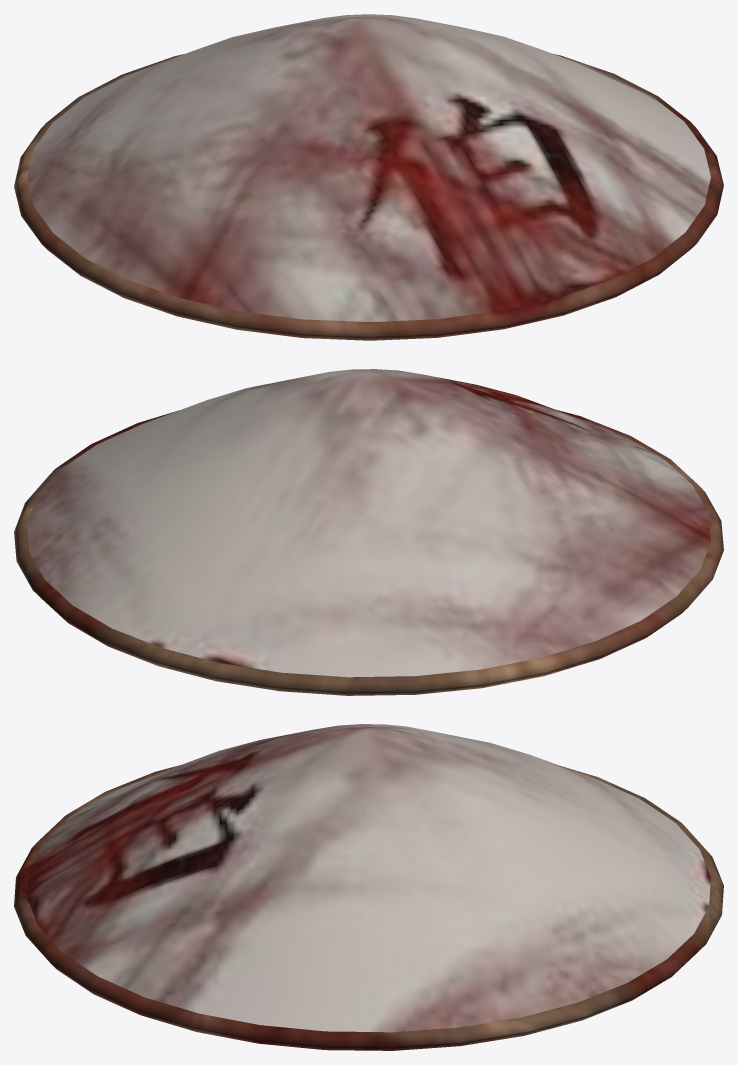
File: chapeau_paille.glb
3 views of the same model, one above another, from view 1: azimuth 30°, elevation 25°; view 2: azimuth 150°, elevation 25°; view 3: azimuth 270°, elevation 25° (orthographic).
Visible parts, largest first — view 1: RattanHat_LOD0; view 2: RattanHat_LOD0; view 3: RattanHat_LOD0.
Part boxes in pixels (box(x1,y1,x2,y2)): RattanHat_LOD0: box(14, 14, 723, 340); RattanHat_LOD0: box(14, 369, 723, 695); RattanHat_LOD0: box(14, 724, 723, 1050).
Bounding box in the file's own units: 0.7812 × 0.212 × 0.7812.
Materials: 1 (1 with a texture image).
